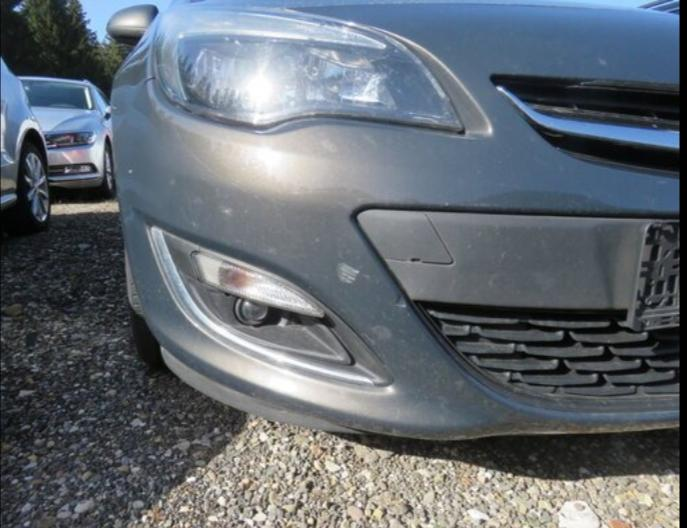Cracked: (152, 0, 463, 130)
Dent: (446, 189, 658, 218), (592, 221, 644, 310), (394, 294, 407, 307)
Missing part: (629, 223, 683, 332)
Scratch: (336, 260, 361, 284), (369, 325, 393, 341), (599, 57, 609, 66)
